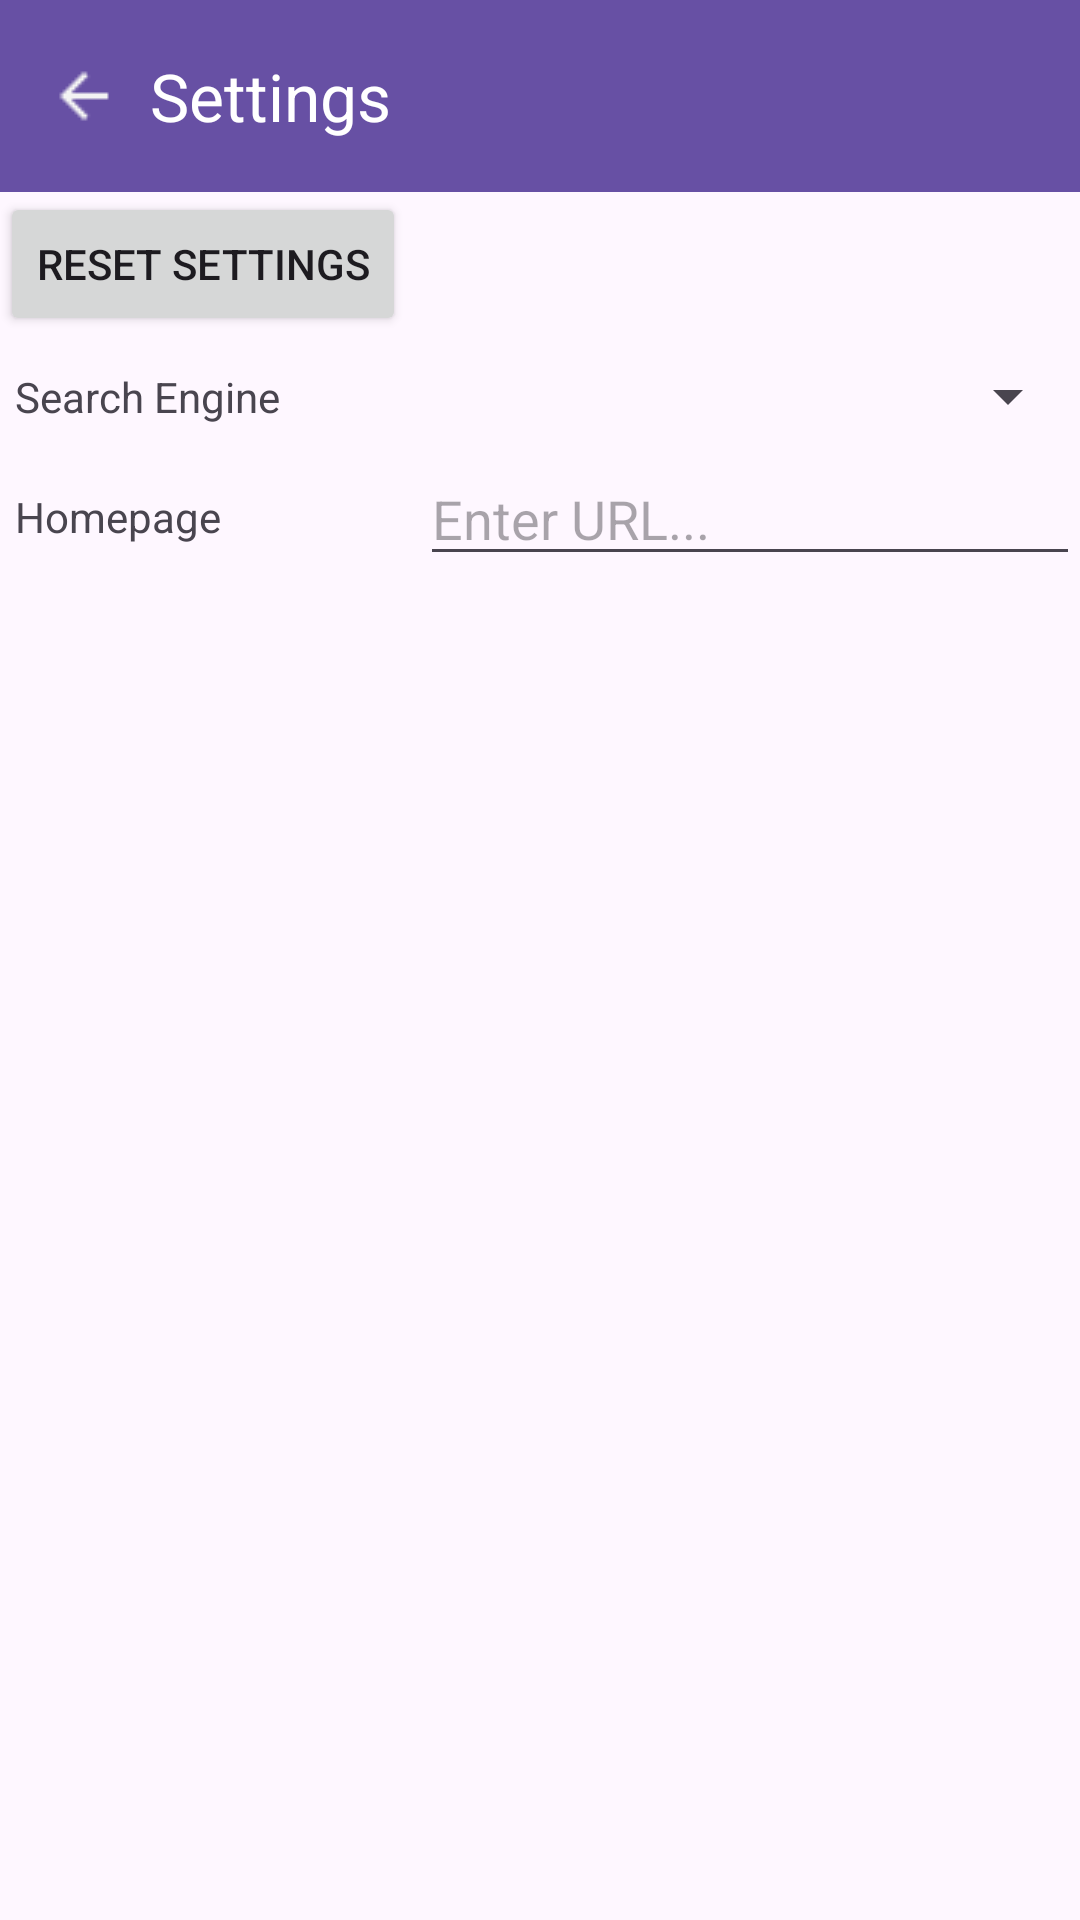

Locate icon controls on the screen. Image size 1080x1920, boxes as bbox=[x1, y1, x2, y2].
back: bbox=[59, 71, 109, 121]
